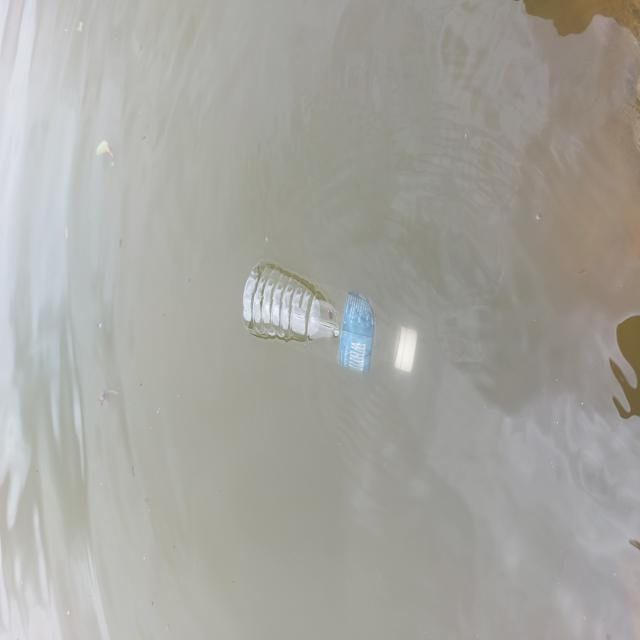waterbottle: (224, 255, 420, 387)
